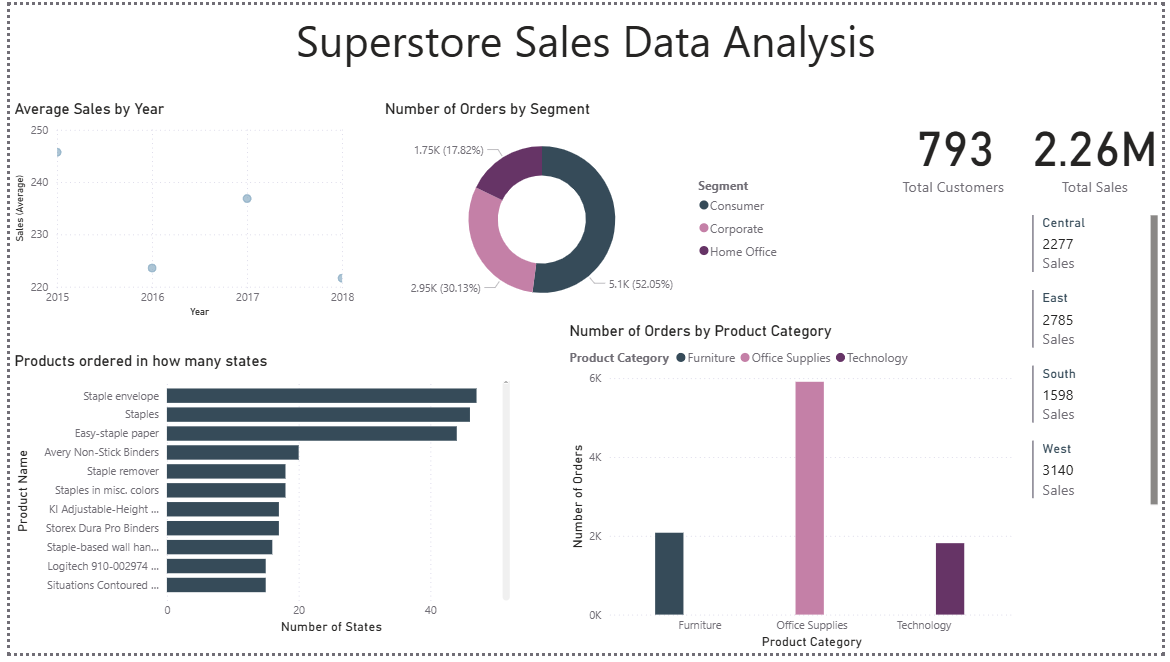

The page's visual inventory and layout, read from the dashboard file:
{"tool":"powerbi","page":{"name":"Page 1","canvas":[1280,720],"ordinal":0},"visuals":[{"type":"scatterChart","title":"Average Sales by Year","fields":{"Y":["Avg(train.Sales)"],"X":["train.Order Year"]},"box":[0,105,386.7,246.7],"z":0},{"type":"card","fields":{"Values":["Count(train.Customer ID)"]},"box":[970,105,160,116.7],"z":1000},{"type":"clusteredBarChart","title":"Products ordered in how many states","fields":{"Category":["train.Product Name"],"Y":["CountNonNull(train.State)"]},"box":[0,385,560,318.3],"z":2000},{"type":"multiRowCard","fields":{"Values":["train.Region","CountNonNull(train.Sales (bins))"]},"box":[1130,228.3,150,343.3],"z":3000},{"type":"clusteredColumnChart","title":"Number of Orders by Product Category ","fields":{"Category":["train.Category","train.Sub-Category"],"Y":["CountNonNull(train.Order ID)"],"Series":["train.Category"]},"box":[616.7,351.7,503.3,368.3],"z":4000},{"type":"card","fields":{"Values":["Sum(train.Sales)"]},"box":[1130,105,150,116.7],"z":5000},{"type":"donutChart","fields":{"Series":["train.Segment"],"Y":["CountNonNull(train.Order ID)"]},"box":[411.7,105,455,246.7],"z":6000},{"type":"textbox","box":[0,0,1280,81.7],"z":7000}]}

Visuals, with their boxes in screenshot pixels (x1, y1, x2, y2), scaled from the page's 1280x720 canvas onto the 1170x662 screenshot:
"Average Sales by Year" scatterChart: [0,97,353,323]
card - Count(train.Customer ID): [887,97,1033,204]
"Products ordered in how many states" clusteredBarChart: [0,354,512,647]
multiRowCard - train.Region x CountNonNull(train.Sales (bins)): [1033,210,1169,526]
"Number of Orders by Product Category " clusteredColumnChart: [564,323,1024,661]
card - Sum(train.Sales): [1033,97,1169,204]
donutChart - train.Segment x CountNonNull(train.Order ID): [376,97,792,323]
textbox: [0,0,1169,75]
